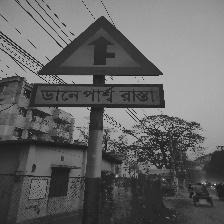Side-road-right: (35, 16, 165, 108)
